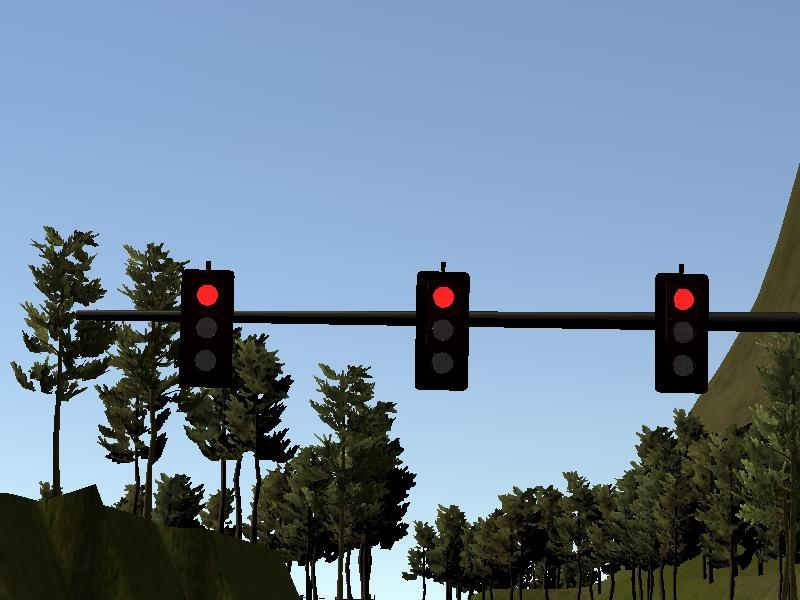red: (176, 262, 239, 390), (651, 268, 714, 396), (412, 263, 472, 395)
